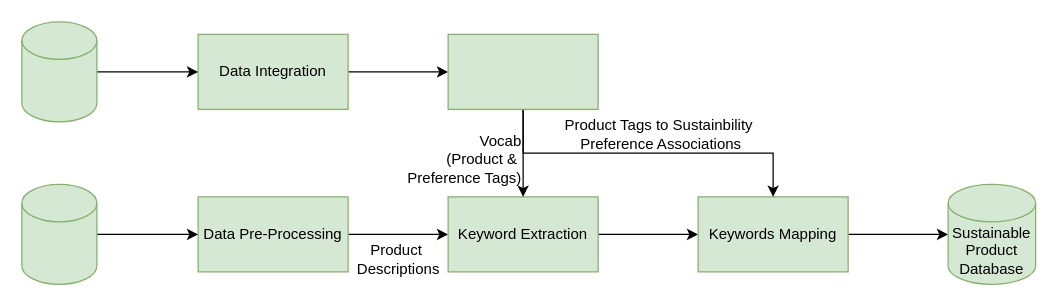
This 1058x306 diagram has some shape labels left out. The centre of each missing label's shape, as x and y in pixels:
Amazon Data: the point at 59,233
Data Augmentation: the point at 522,71
Ontology Data: the point at 59,71
